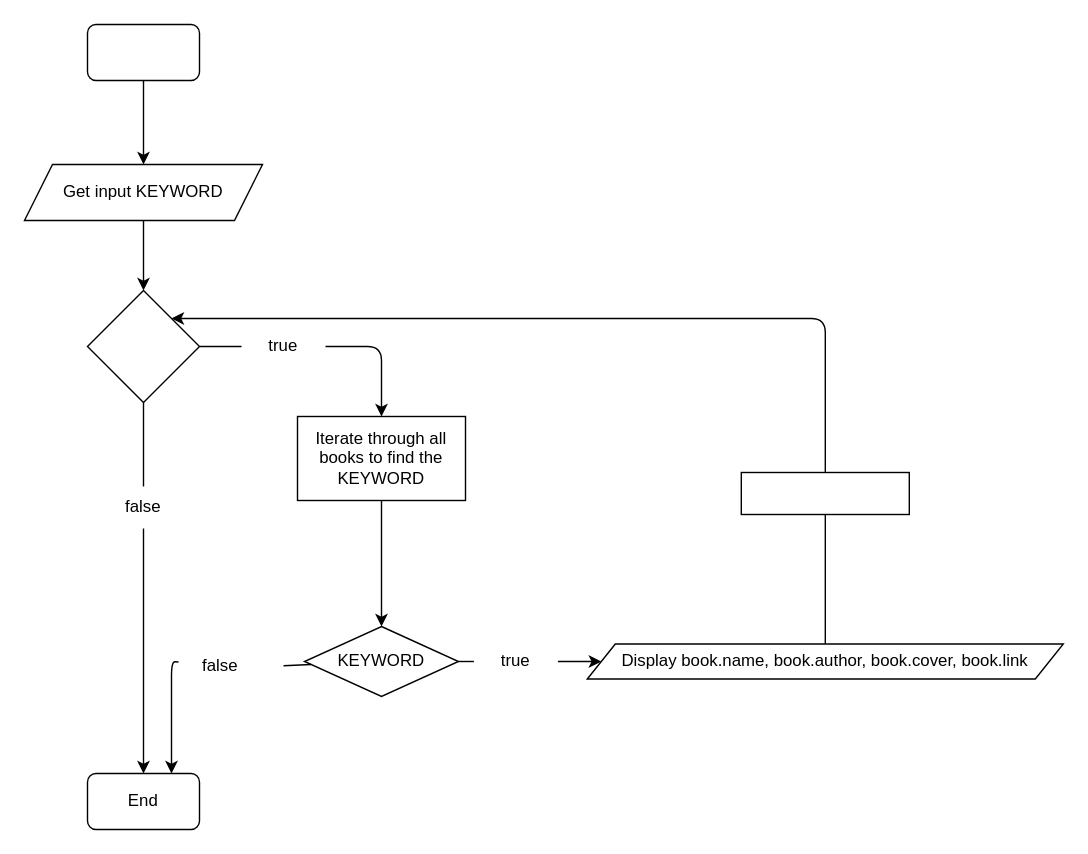
Some shapes in this 1088 by 854 pixel diagram are drawn without their labels. Each missing label, with the centre of its shape:
"book - 1" goes at (x=824, y=492).
"Book > 0" goes at (x=143, y=345).
"Main" goes at (x=143, y=51).
